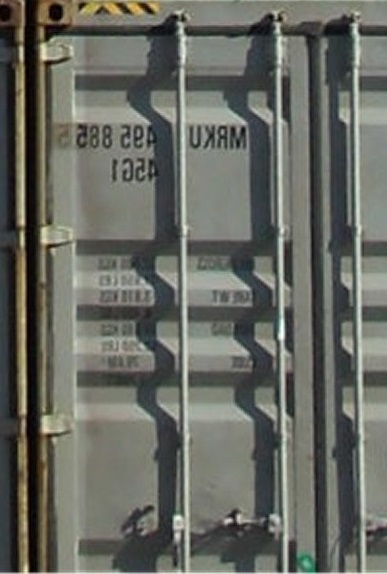container_door: (8, 4, 379, 568)
